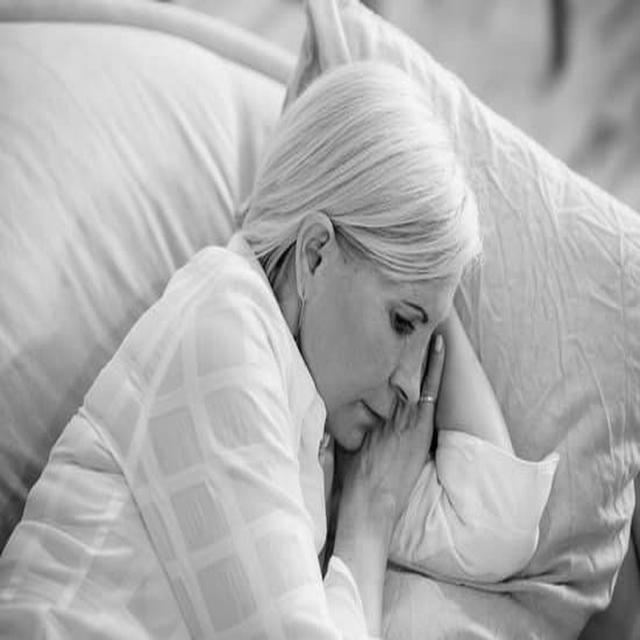Sadness: (329, 225, 463, 453)
